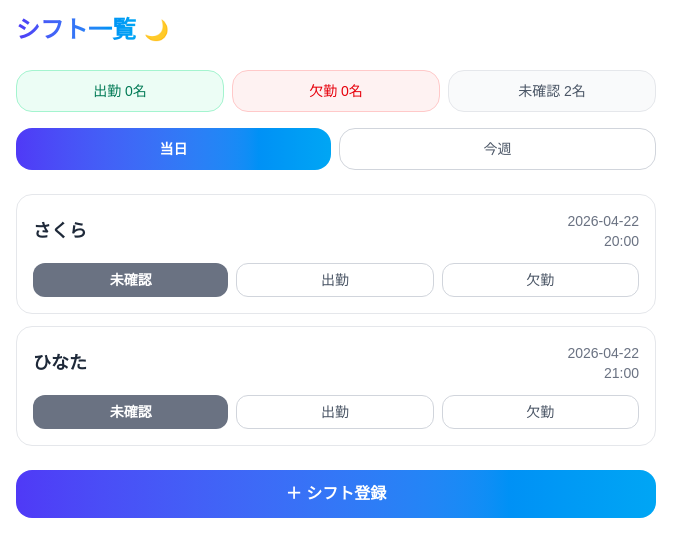
シフト一覧ページ › シフト一覧表示後、ステータスを欠勤に変更すると欠勤人数が表示される
Expected: the text "さくら" is shown, 33,217 -> 87,245
Expected: the text "ひなた" is shown, 33,349 -> 87,377
# 「欠勤」ボタンをクリック（さくらのカードの方）
Click the button "欠勤" below "20:00". click: (540, 280)
box: 442,263 -> 639,297
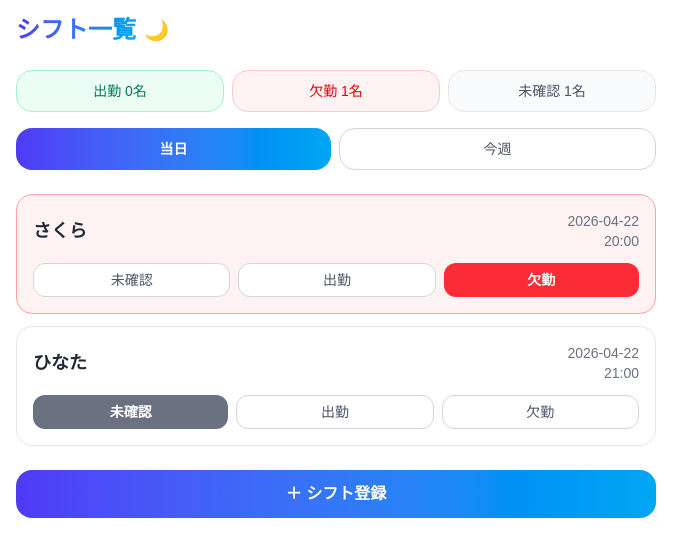
Now the text "欠勤 1名" is shown, box 232,70 -> 440,112
